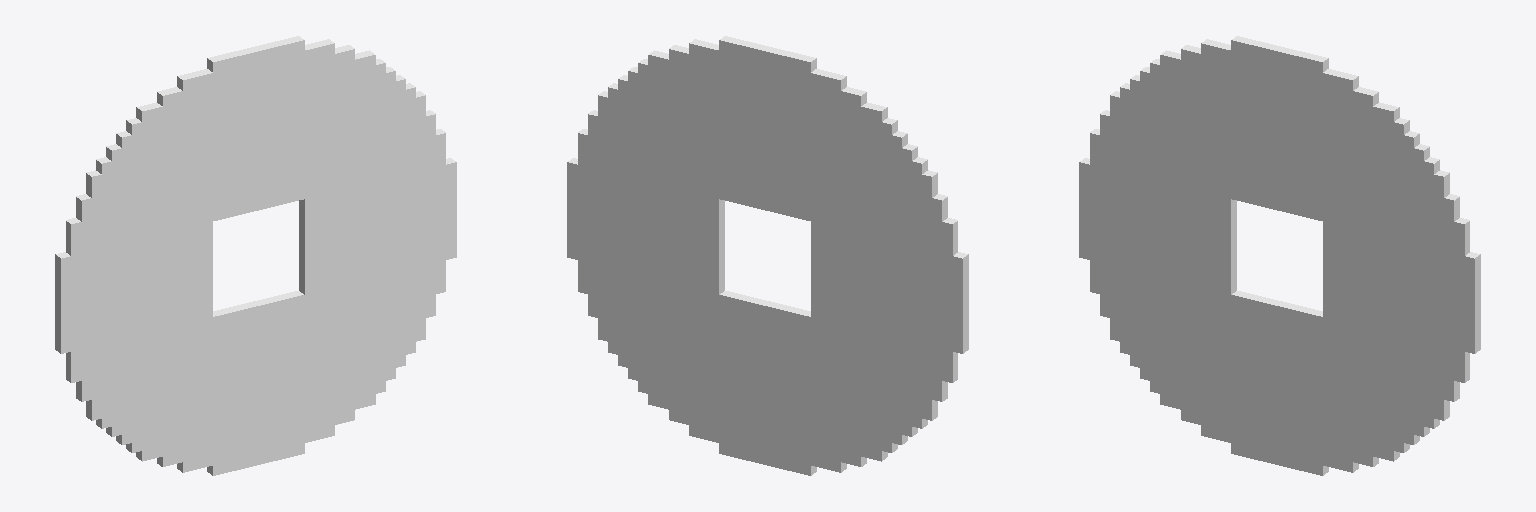
Rendered from MONEY1.obj.
The picture shows the model from 3 angles: view 1: azimuth 30°, elevation 25°; view 2: azimuth 150°, elevation 25°; view 3: azimuth 330°, elevation 25°; orthographic projection.
Parts seen in each view (by area): view 1: object 1; view 2: object 1; view 3: object 1.
Part boxes in pixels (x1,y1,x2,y2): object 1: (55,36,456,475); object 1: (567,36,968,475); object 1: (1079,36,1480,475).
Bounding box in the file's own units: 3.9 × 3.9 × 0.1.